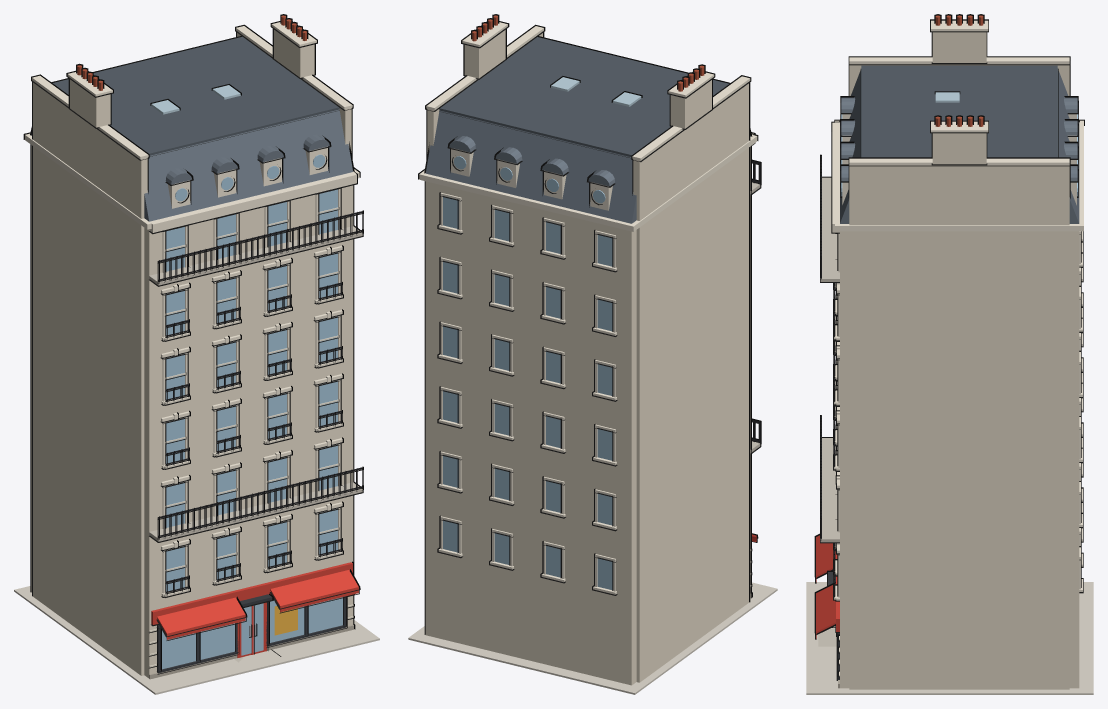
The model's file is Konut_ref_kubbeli.fbx.
3 renders of one model, left to right at view 1: azimuth 30°, elevation 25°; view 2: azimuth 150°, elevation 25°; view 3: azimuth 270°, elevation 25°, orthographic.
Parts seen in each view (by area): view 1: Konut_ref_kubbeli; view 2: Konut_ref_kubbeli; view 3: Konut_ref_kubbeli.
Boxes of the visible parts, x1=… form: Konut_ref_kubbeli: x1=14, y1=14, x2=379, y2=694; Konut_ref_kubbeli: x1=408, y1=14, x2=777, y2=694; Konut_ref_kubbeli: x1=806, y1=14, x2=1093, y2=694.
Size of the model in its own units: 11 by 26.49 by 12.
